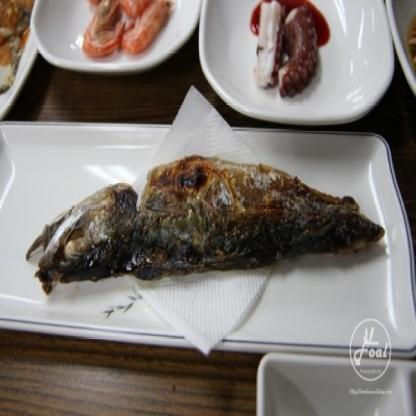Peixe: (24, 152, 389, 285)
